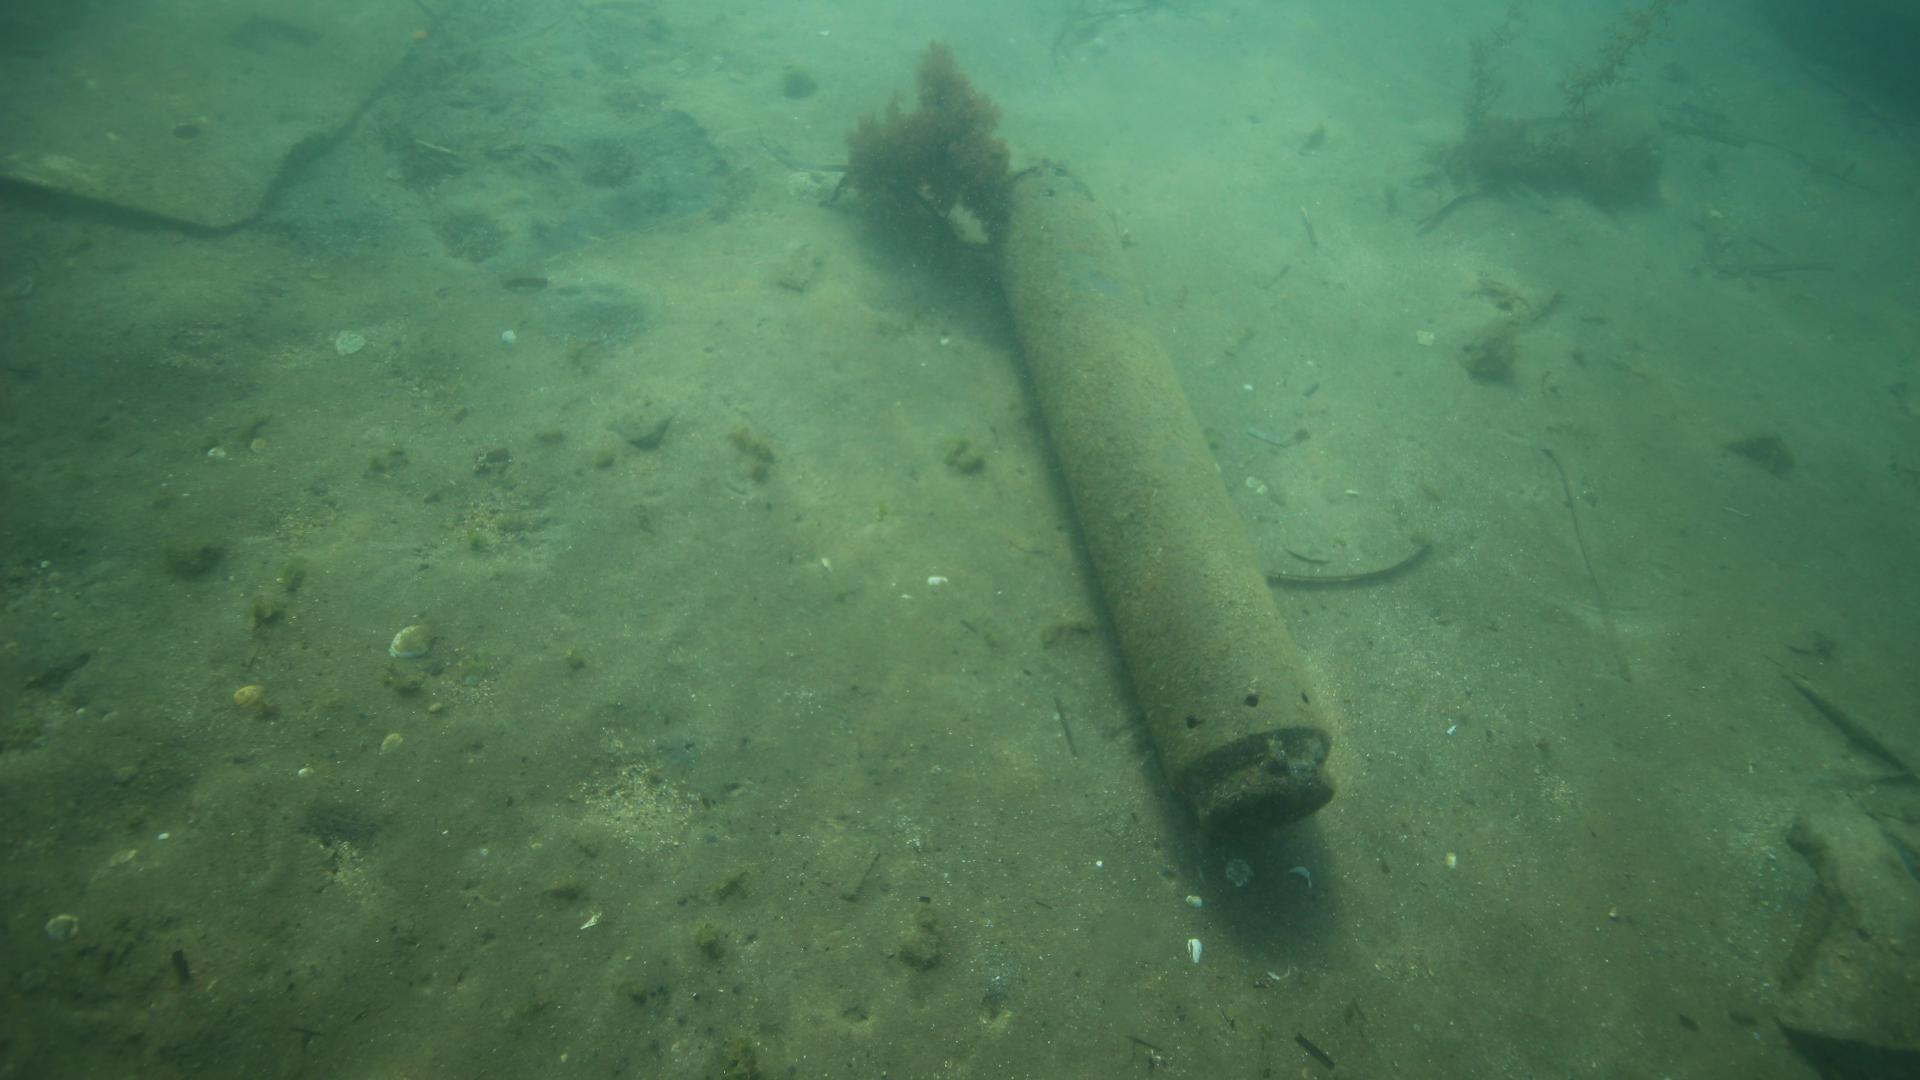eel fish trap: (994, 160, 1342, 843)
